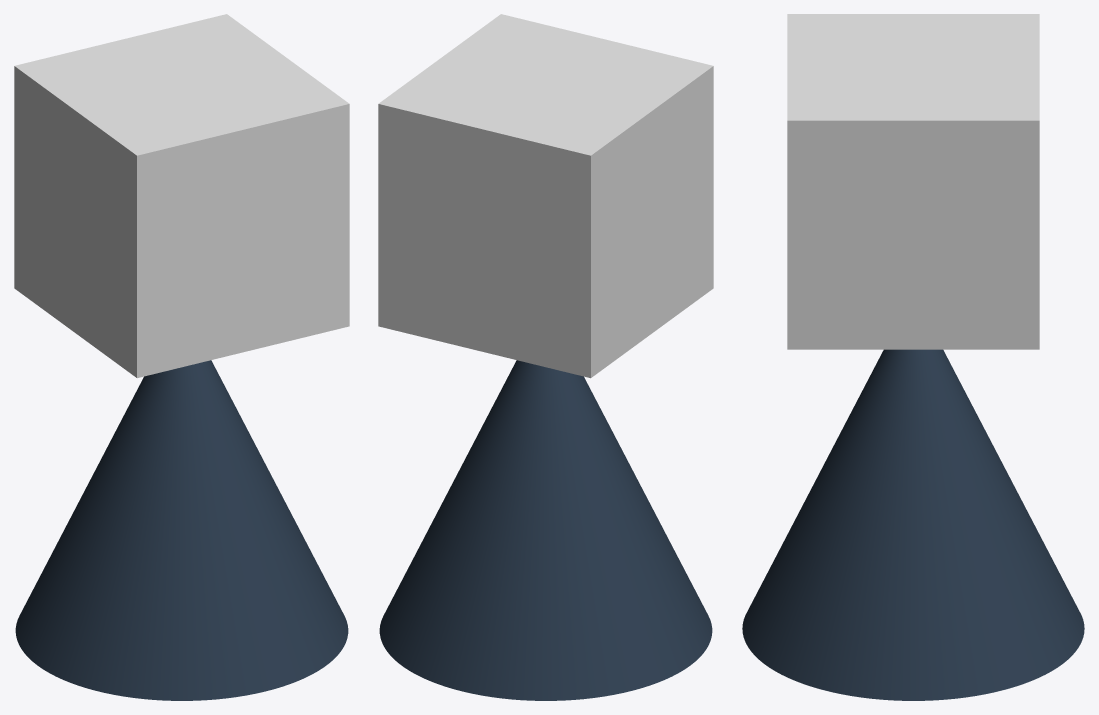
File: cone_blue_vertical.glb
The picture shows the model from 3 angles, left to right: view 1: azimuth 30°, elevation 25°; view 2: azimuth 150°, elevation 25°; view 3: azimuth 270°, elevation 25°; orthographic projection. The views are drawn at different scales.
Visible parts, largest first — view 1: placeholder, Cone; view 2: placeholder, Cone; view 3: placeholder, Cone.
Part boxes in pixels (x1,y1,x2,y2): placeholder: [14, 14, 349, 378]; Cone: [15, 360, 348, 700]; placeholder: [378, 14, 713, 378]; Cone: [379, 360, 712, 700]; placeholder: [787, 14, 1039, 349]; Cone: [742, 349, 1084, 700].
Bounding box in the file's own units: 1.34 × 2.43 × 1.34.
